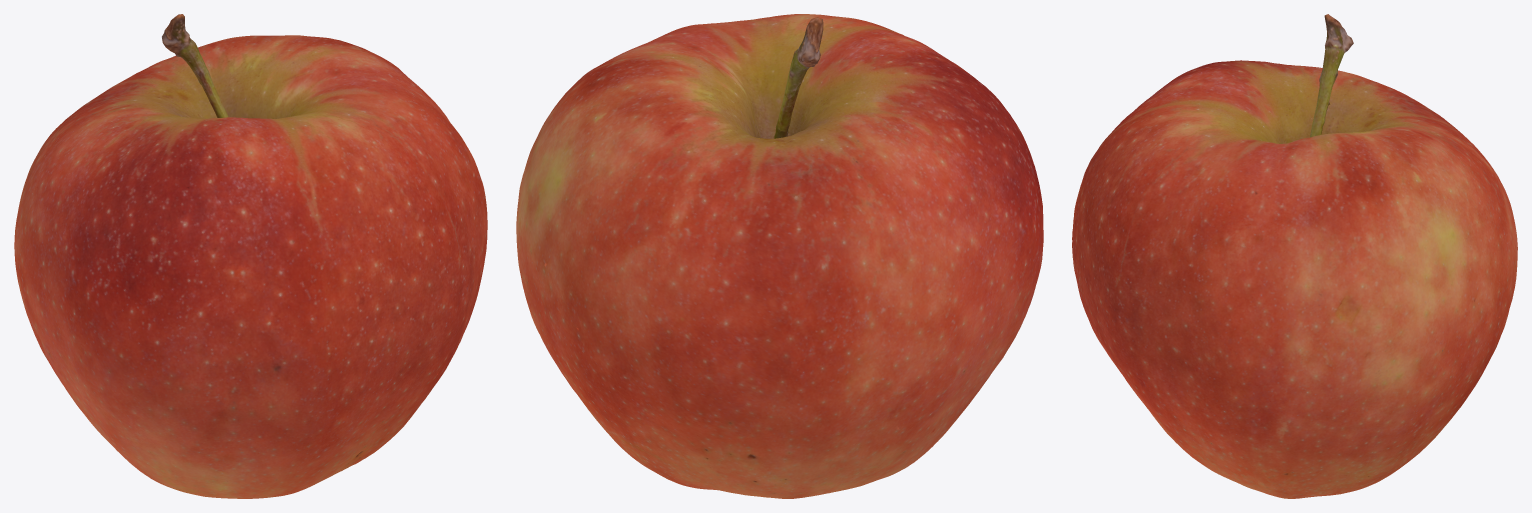
File: apple_3d_model.glb
The picture shows the model from 3 angles, left to right: view 1: azimuth 30°, elevation 25°; view 2: azimuth 150°, elevation 25°; view 3: azimuth 270°, elevation 25°; orthographic projection. The views are drawn at different scales.
Visible parts, largest first — view 1: Object_2; view 2: Object_2; view 3: Object_2.
Boxes of the visible parts, x1,y1,x2,y2 form: Object_2: (14,14,487,498); Object_2: (516,14,1043,498); Object_2: (1072,14,1517,498).
Size of the model in its own units: 0.1157 by 0.1199 by 0.1152.
1 material, 1 textured.
